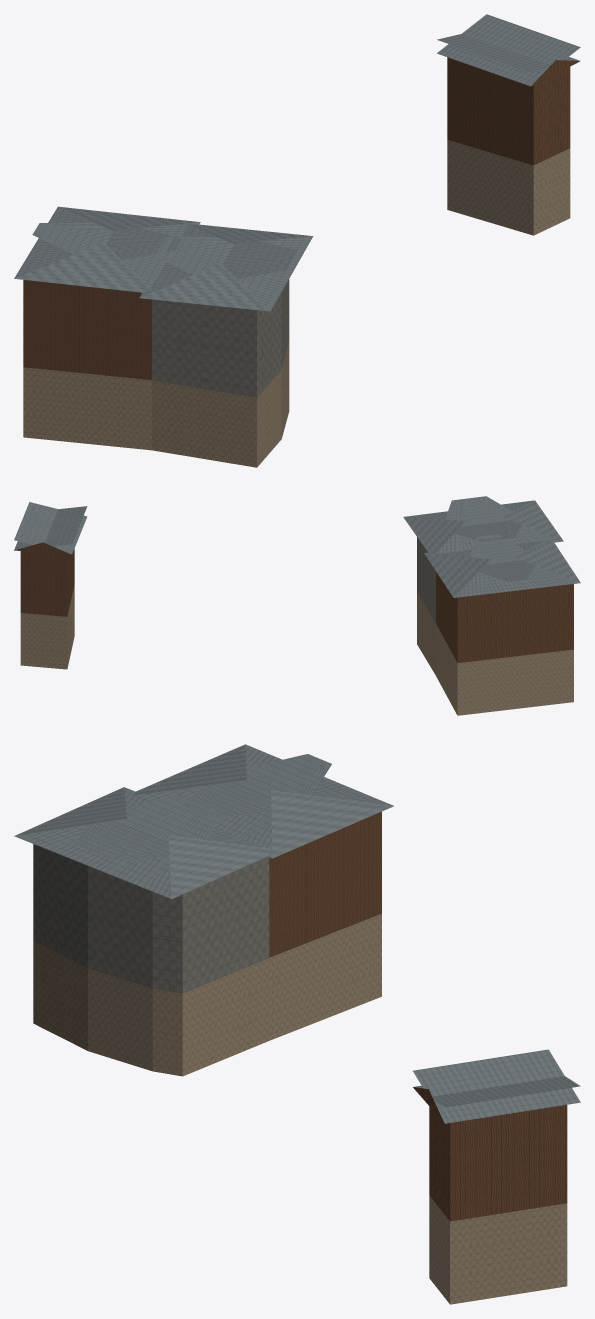
Rendered from bld_c41_-9_499.gltf.
3 views of the same model, one above another, from view 1: azimuth 30°, elevation 25°; view 2: azimuth 150°, elevation 25°; view 3: azimuth 270°, elevation 25° (orthographic). The views are drawn at different scales.
Visible parts, largest first — view 1: bld_c41_-9_499; view 2: bld_c41_-9_499; view 3: bld_c41_-9_499.
Part boxes in pixels (x1,y1,x2,y2): bld_c41_-9_499: [14, 14, 580, 467]; bld_c41_-9_499: [14, 496, 580, 715]; bld_c41_-9_499: [14, 744, 580, 1304].
Size of the model in its own units: 49.55 by 12.7 by 31.55.
5 materials, 5 textured.
